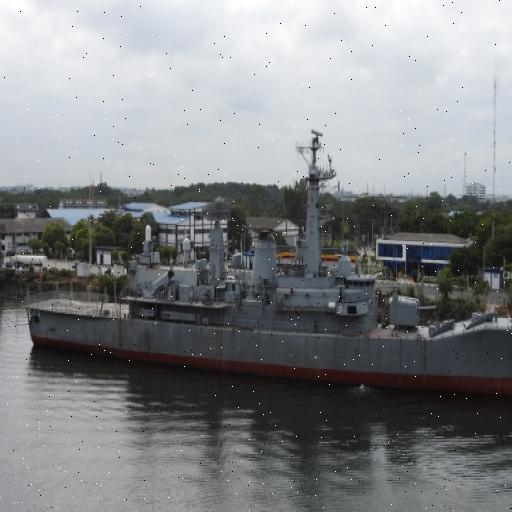Fragata: (26, 115, 512, 407)
